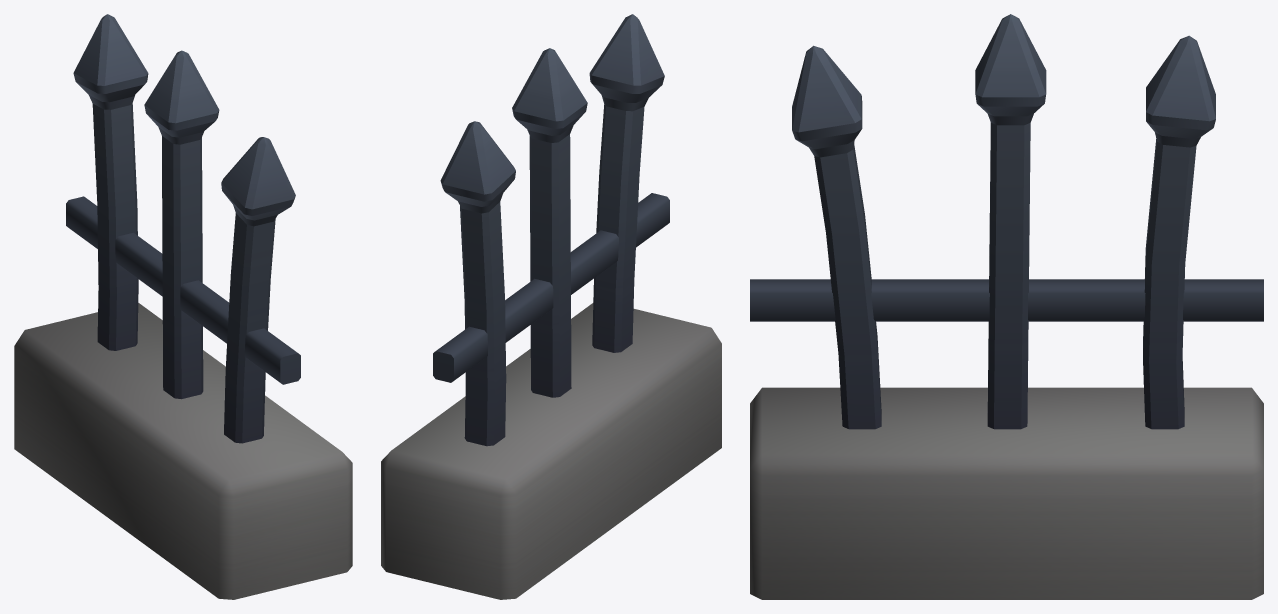
File: Fence_2_1.glb
The picture shows the model from 3 angles, left to right: view 1: azimuth 30°, elevation 25°; view 2: azimuth 150°, elevation 25°; view 3: azimuth 270°, elevation 25°; orthographic projection. The views are drawn at different scales.
Parts seen in each view (by area): view 1: Fence_2_1; view 2: Fence_2_1; view 3: Fence_2_1.
Part boxes in pixels (box(x1,y1,x2,y2)): Fence_2_1: box(14, 14, 352, 599); Fence_2_1: box(381, 14, 721, 599); Fence_2_1: box(750, 14, 1263, 599).
Bounding box in the file's own units: 0.3513 × 1.14 × 0.9745.
2 materials, 2 textured.
